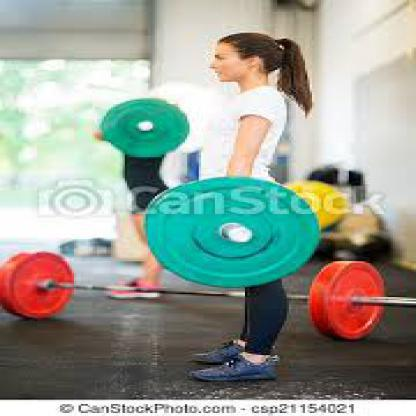Barbell: (136, 172, 324, 292), (96, 88, 193, 160)
